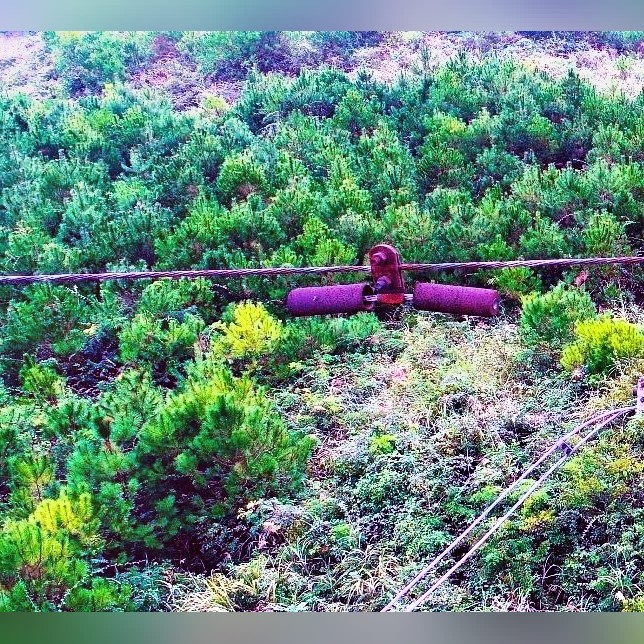Shockproof hammer: (274, 242, 512, 322)
